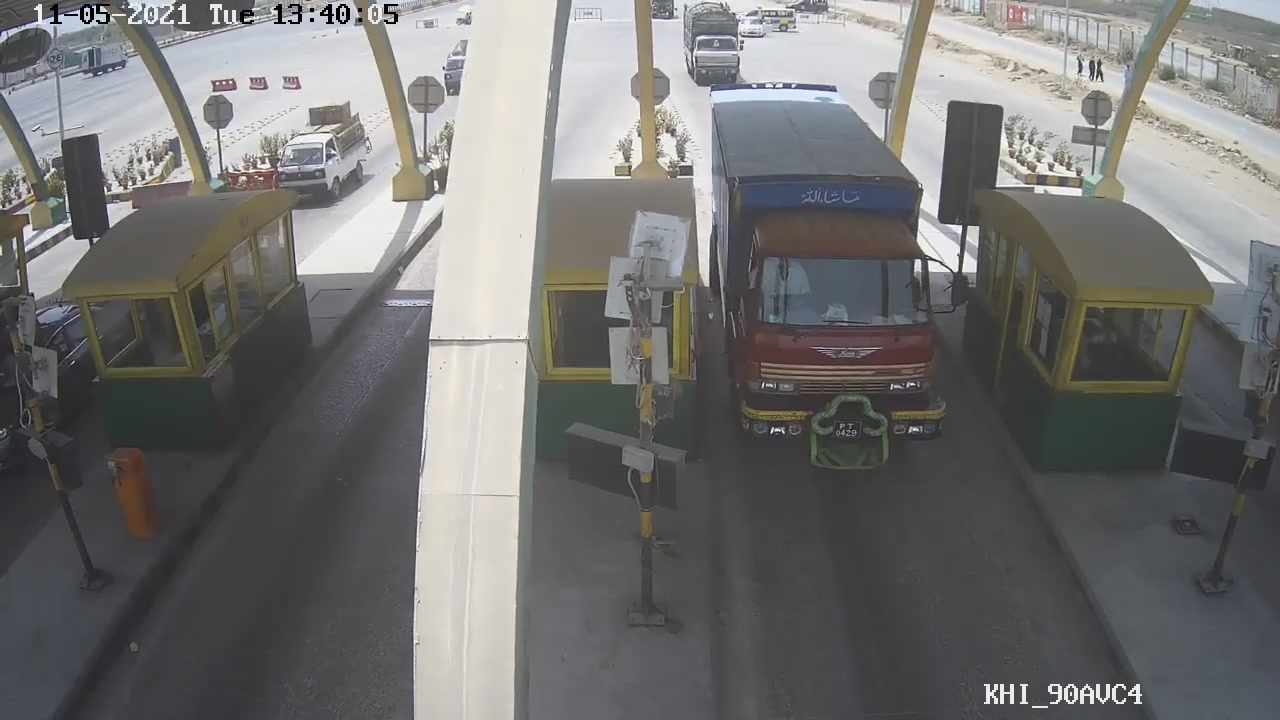F3: (703, 73, 978, 473)
